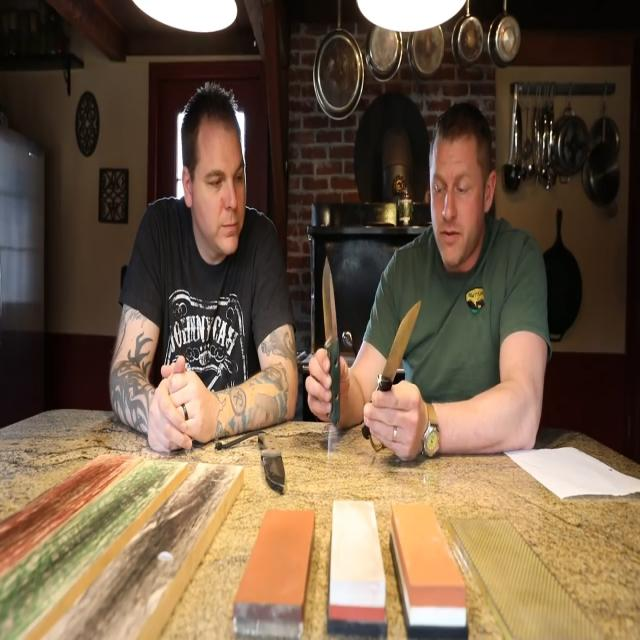knife: (312, 252, 349, 436), (386, 293, 429, 396), (257, 427, 290, 495)
